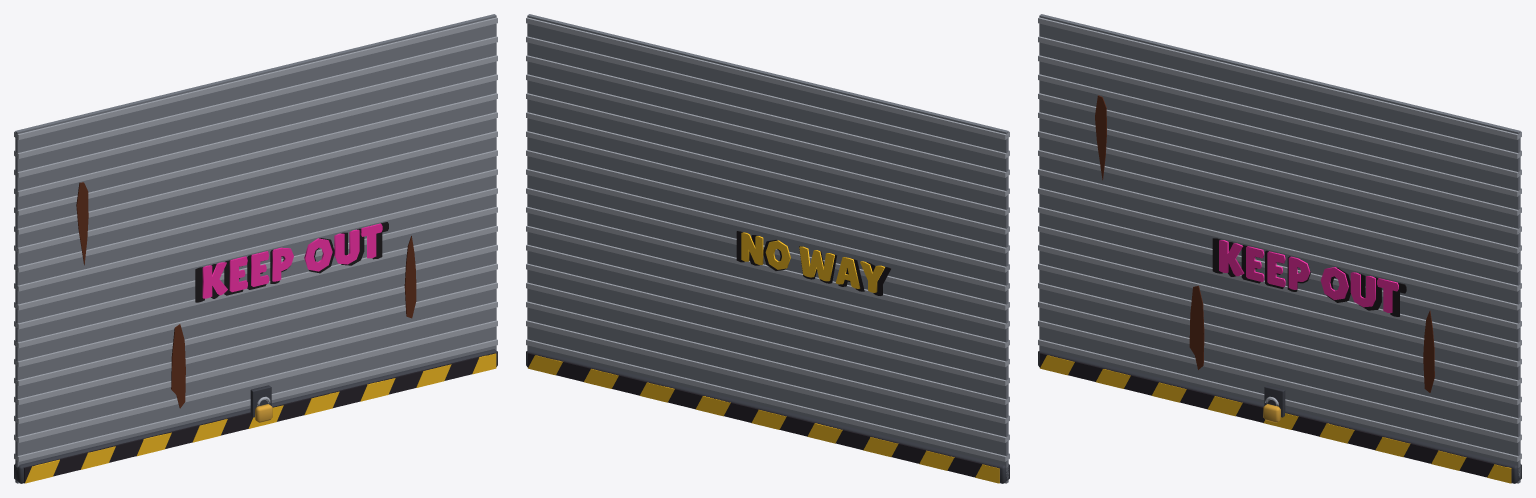
File: city_gate_shutter_door.glb
3 views of the same model, side by side, from view 1: azimuth 30°, elevation 25°; view 2: azimuth 150°, elevation 25°; view 3: azimuth 330°, elevation 25° (orthographic).
Parts seen in each view (by area): view 1: Leaf; view 2: Leaf; view 3: Leaf.
Part boxes in pixels (x1,y1,x2,y2): Leaf: (14,14,497,483); Leaf: (526,14,1009,483); Leaf: (1038,14,1521,483).
Bounding box in the file's own units: 6 × 4.2 × 0.32.
